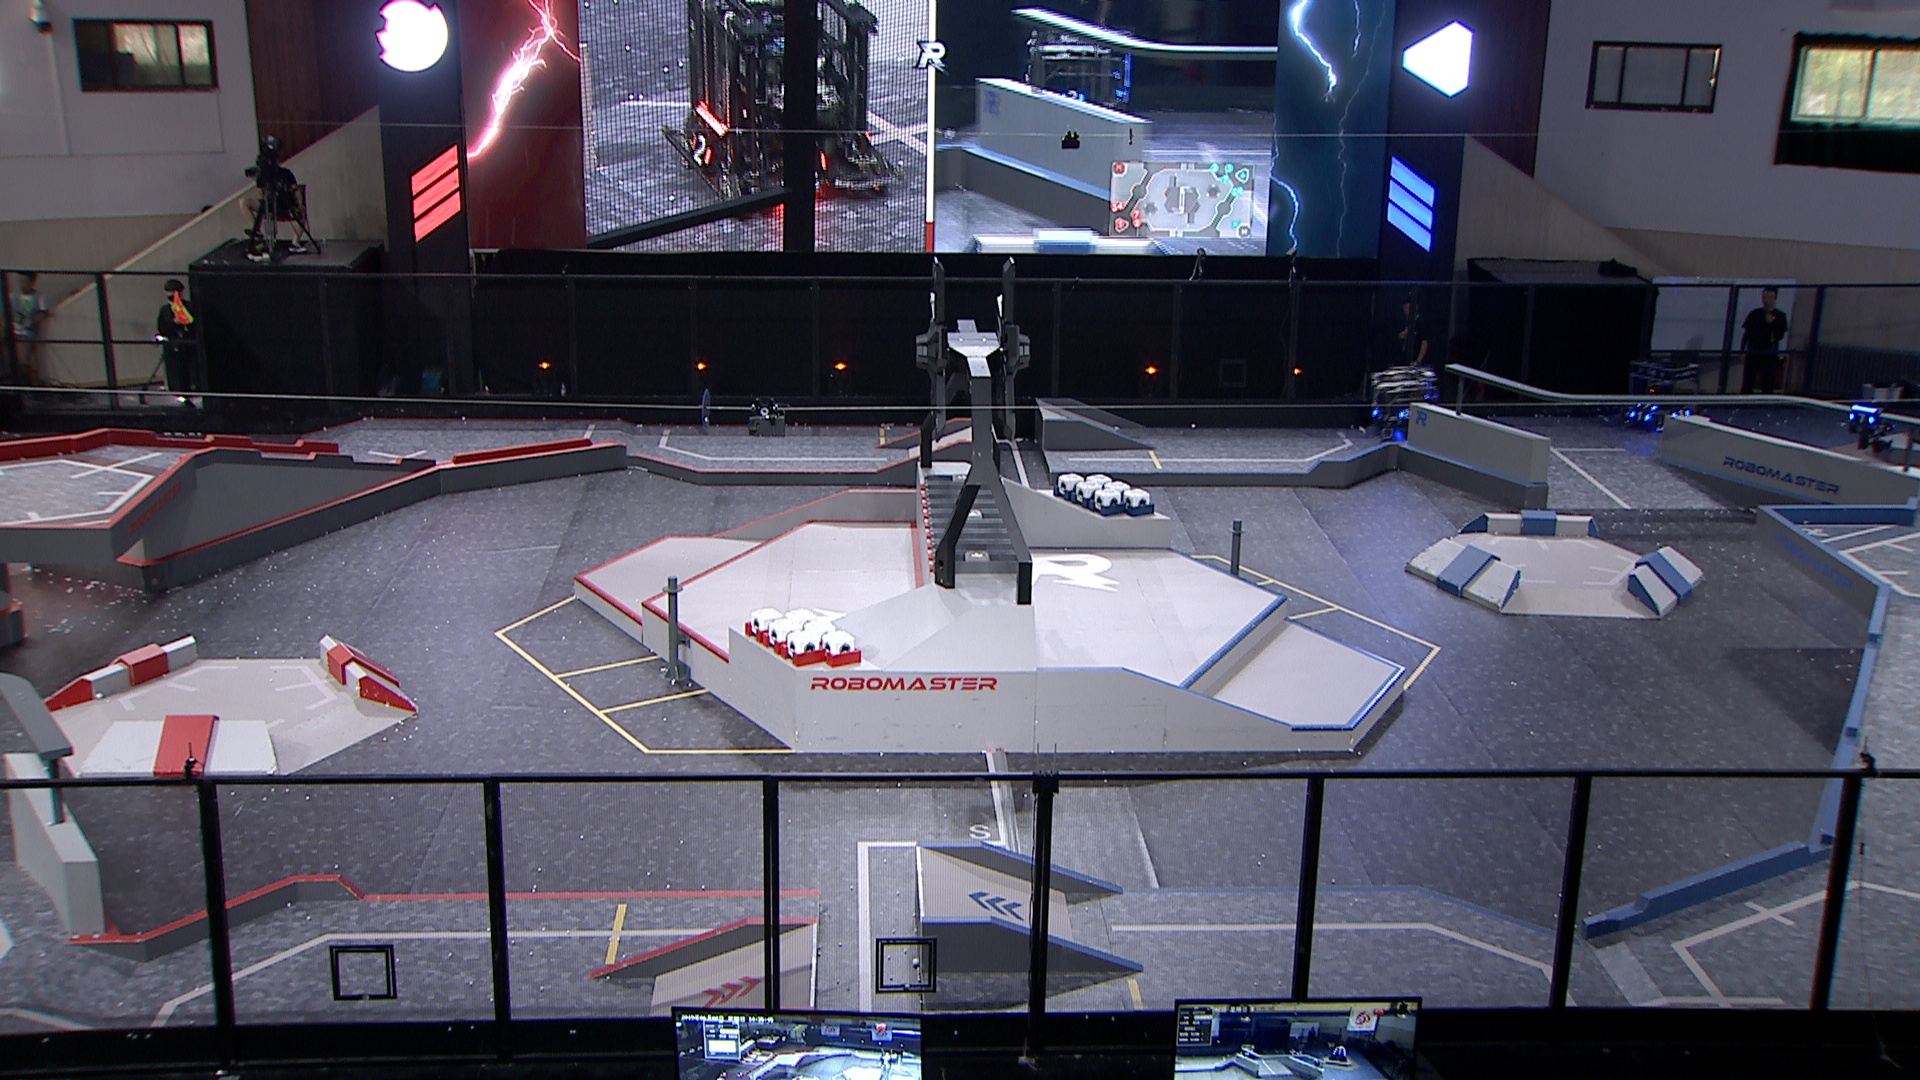armor: (1847, 411, 1878, 427), (1634, 400, 1660, 415), (1629, 409, 1652, 423), (1667, 407, 1693, 419), (1396, 409, 1414, 419)
car: (1626, 360, 1704, 436), (1370, 367, 1443, 443)
ignore: (659, 0, 906, 219), (1025, 24, 1135, 112)
watcher: (1844, 404, 1894, 450)
